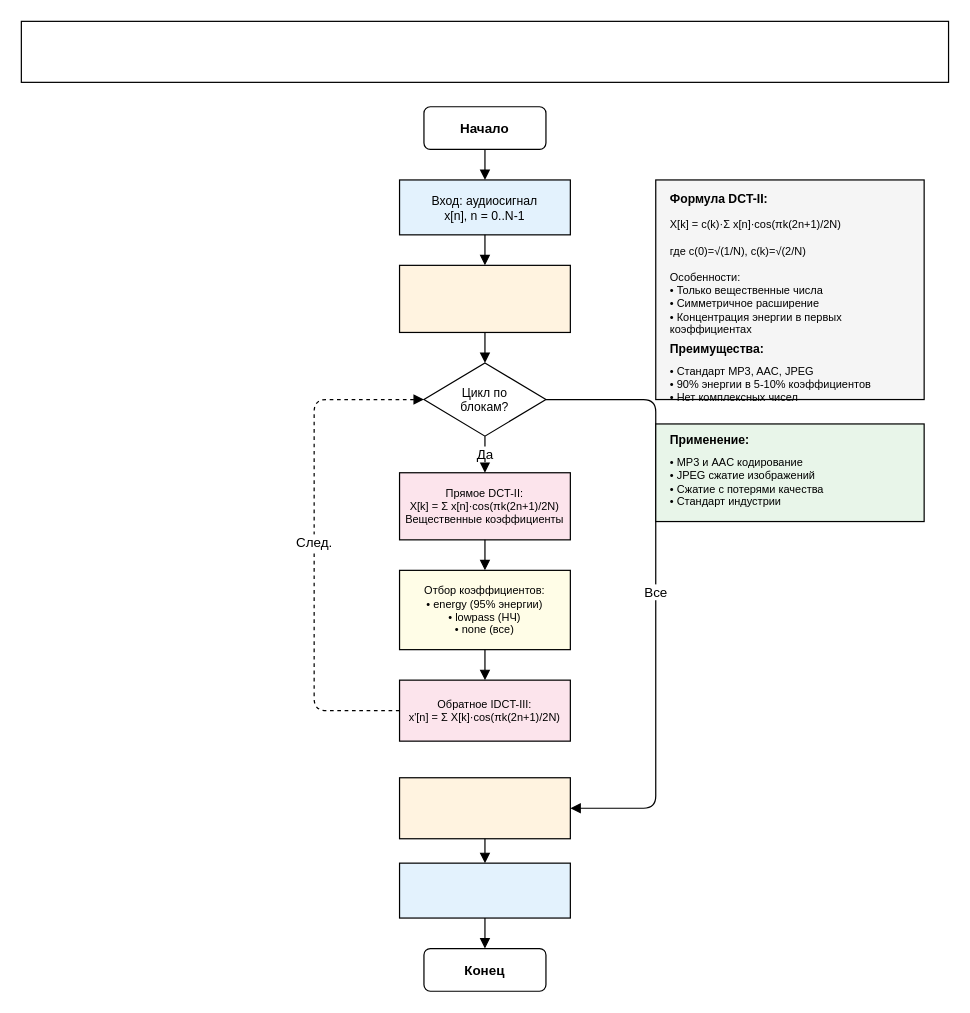
Image size: 970x1013. Some labels were removed from this diagram. Here are the shapes that lost their labels. From the top down, the centre of each, then its label:
At point 484,51: "Метод DCT — Дискретное косинусное преобразование Лист 1 из 1".
At point 484,298: "Разбиение на блоки (Overlap-Add) с окном Ханна".
At point 484,808: "Восстановление сигнала (OLA)".
At point 484,890: "Выход: обработанный сигнал".
